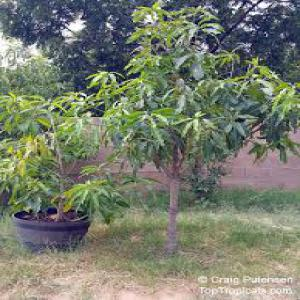Tree: (81, 0, 299, 205), (0, 84, 102, 248)
